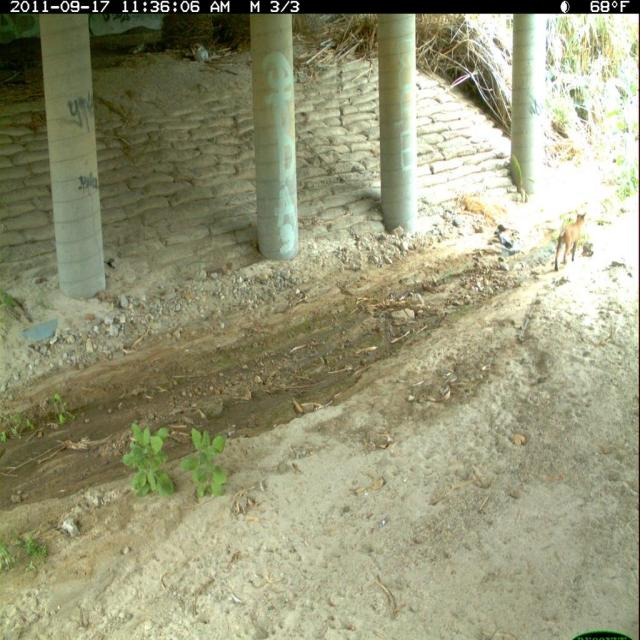bobcat: (551, 205, 591, 277)
